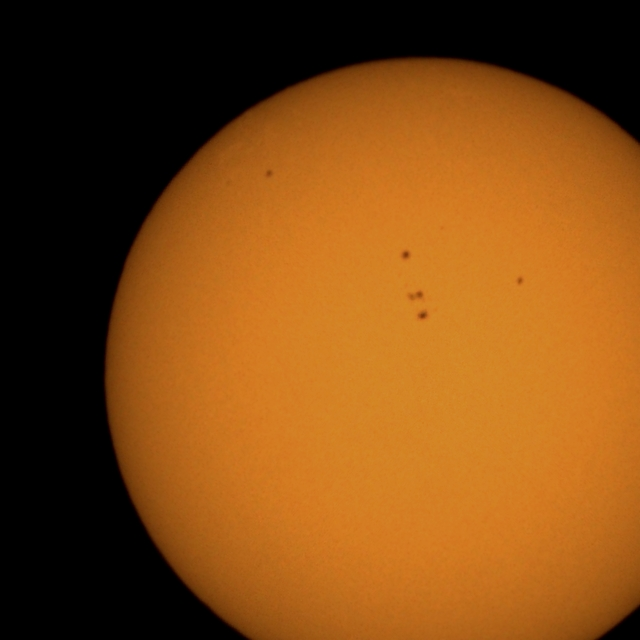sunspot: (405, 288, 430, 322), (406, 289, 426, 303), (416, 309, 429, 322), (400, 249, 412, 262), (264, 168, 274, 180), (515, 275, 525, 287)
